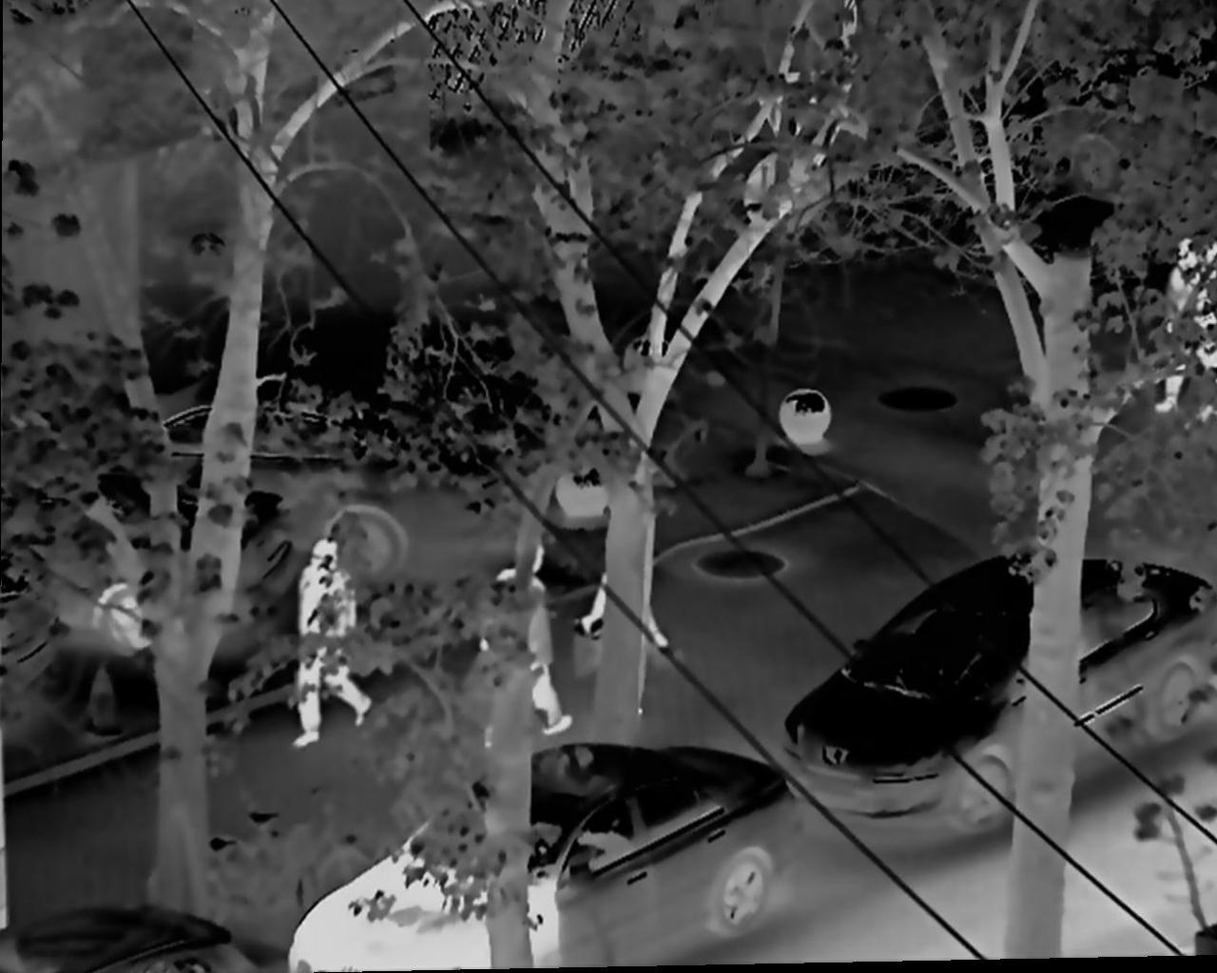person: (295, 525, 378, 740), (480, 544, 572, 730), (585, 549, 664, 726)
